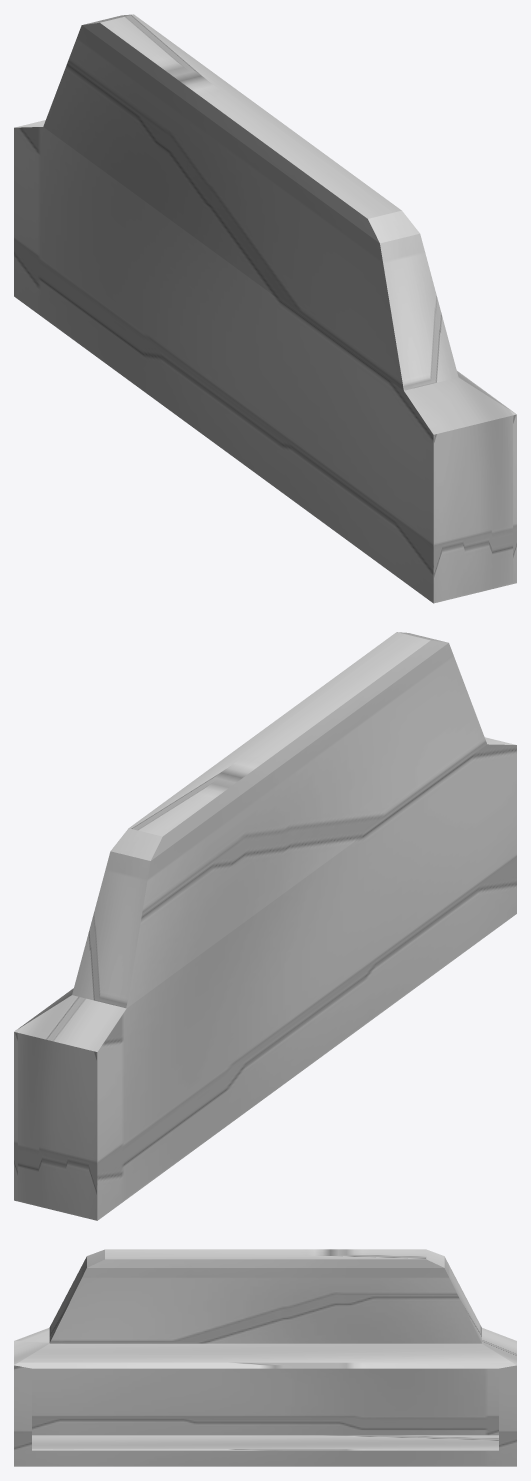
The model's file is progress-box.fbx.
The picture shows the model from 3 angles, top to bottom: view 1: azimuth 30°, elevation 25°; view 2: azimuth 150°, elevation 25°; view 3: azimuth 270°, elevation 25°; orthographic projection. The views are drawn at different scales.
Visible parts, largest first — view 1: Cube; view 2: Cube; view 3: Cube.
Part boxes in pixels (x1,y1,x2,y2): Cube: [14, 14, 516, 603]; Cube: [14, 632, 516, 1220]; Cube: [14, 1249, 516, 1466].
Bounding box in the file's own units: 1033 × 119 × 443.
